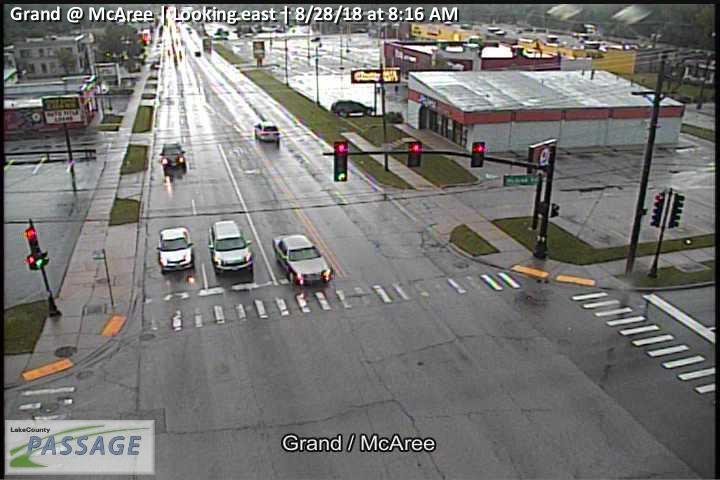SUV: (208, 220, 254, 272), (331, 100, 373, 117)
Sedan: (273, 234, 332, 286), (156, 227, 194, 273), (159, 142, 185, 168), (254, 122, 280, 141)
